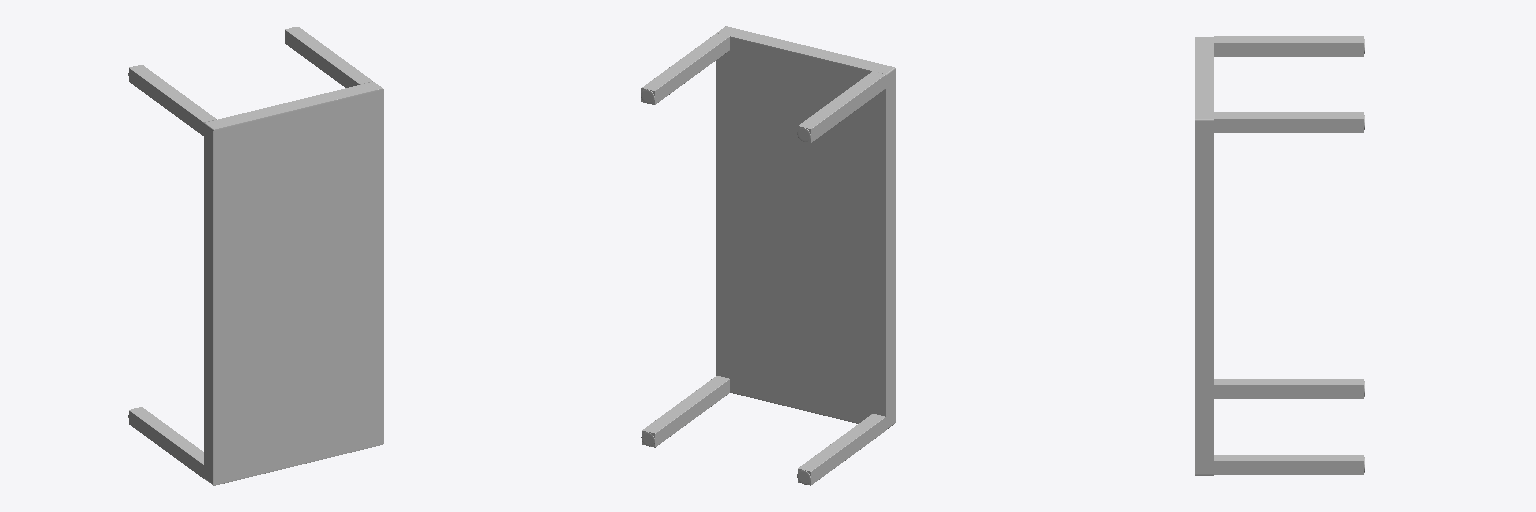
The model's file is table_modified.obj.
3 renders of one model, left to right at view 1: azimuth 30°, elevation 25°; view 2: azimuth 150°, elevation 25°; view 3: azimuth 270°, elevation 25°, orthographic.
Parts seen in each view (by area): view 1: Body_Cube.001, Soles_Cylinder.002, Legs_Cube.003, Soles_Cylinder.001; view 2: Body_Cube.001, Soles_Cylinder.001, Legs_Cube.003, Soles_Cylinder.002, Soles_Cylinder.003; view 3: Body_Cube.001, Soles_Cylinder.001, Soles_Cylinder.002, Legs_Cube.003, Soles_Cylinder.003.
Boxes of the visible parts, x1=… form: Body_Cube.001: x1=204, y1=82, x2=383, y2=485; Soles_Cylinder.002: x1=128, y1=65, x2=216, y2=135; Legs_Cube.003: x1=128, y1=407, x2=203, y2=478; Soles_Cylinder.001: x1=285, y1=27, x2=372, y2=87; Body_Cube.001: x1=716, y1=26, x2=895, y2=429; Soles_Cylinder.001: x1=641, y1=33, x2=729, y2=104; Legs_Cube.003: x1=797, y1=414, x2=885, y2=485; Soles_Cylinder.002: x1=797, y1=71, x2=885, y2=142; Soles_Cylinder.003: x1=641, y1=376, x2=729, y2=447; Body_Cube.001: x1=1195, y1=37, x2=1213, y2=475; Soles_Cylinder.001: x1=1214, y1=112, x2=1364, y2=132; Soles_Cylinder.002: x1=1214, y1=36, x2=1364, y2=56; Legs_Cube.003: x1=1214, y1=379, x2=1364, y2=398; Soles_Cylinder.003: x1=1214, y1=455, x2=1364, y2=474.
Size of the model in its own units: 0.555 by 1.11 by 0.4804.